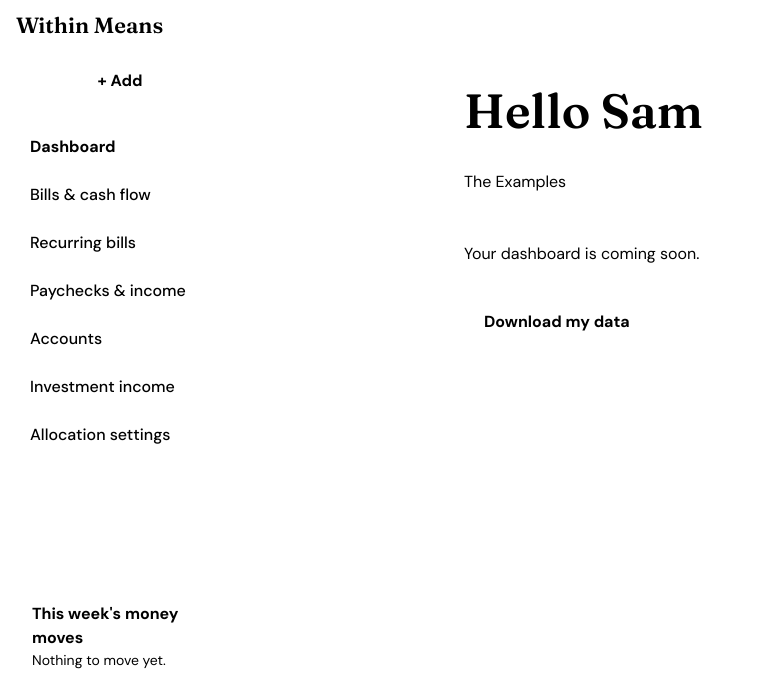
it: Hello › P1-14: a failed download shows an error and can be tried again
The image size is (778, 686).
Click the button "Download my data" at (557, 322), box [464,298,650,346]
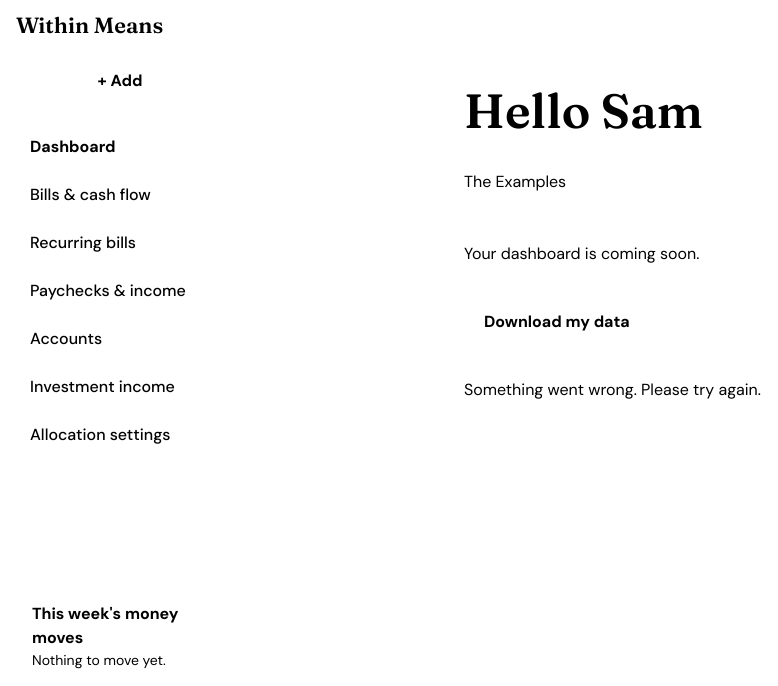
Check: the message shows "Something went wrong", box [464,379,761,400]
Click the button "Download my data" at (557, 322), box [464,298,650,346]
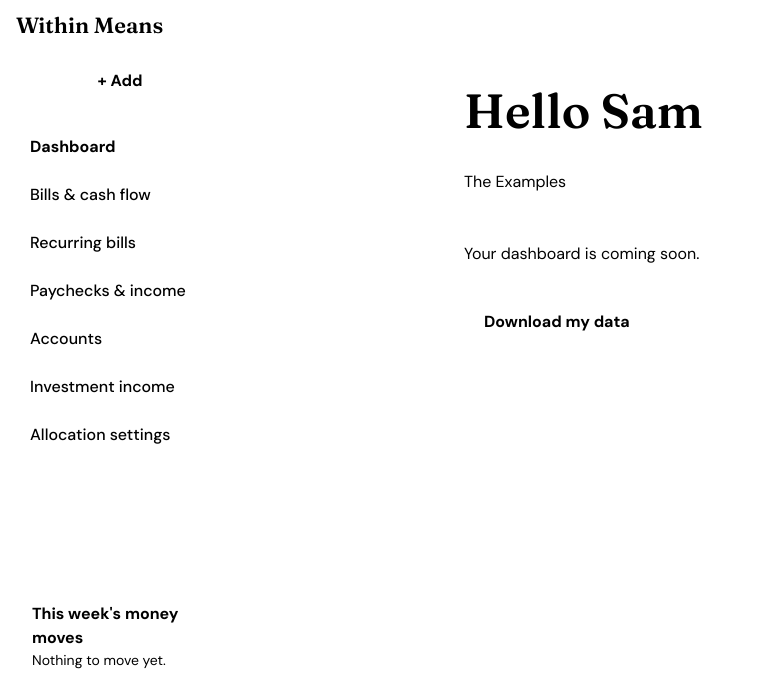
Check: the message "Something went wrong. Please try again." is gone
